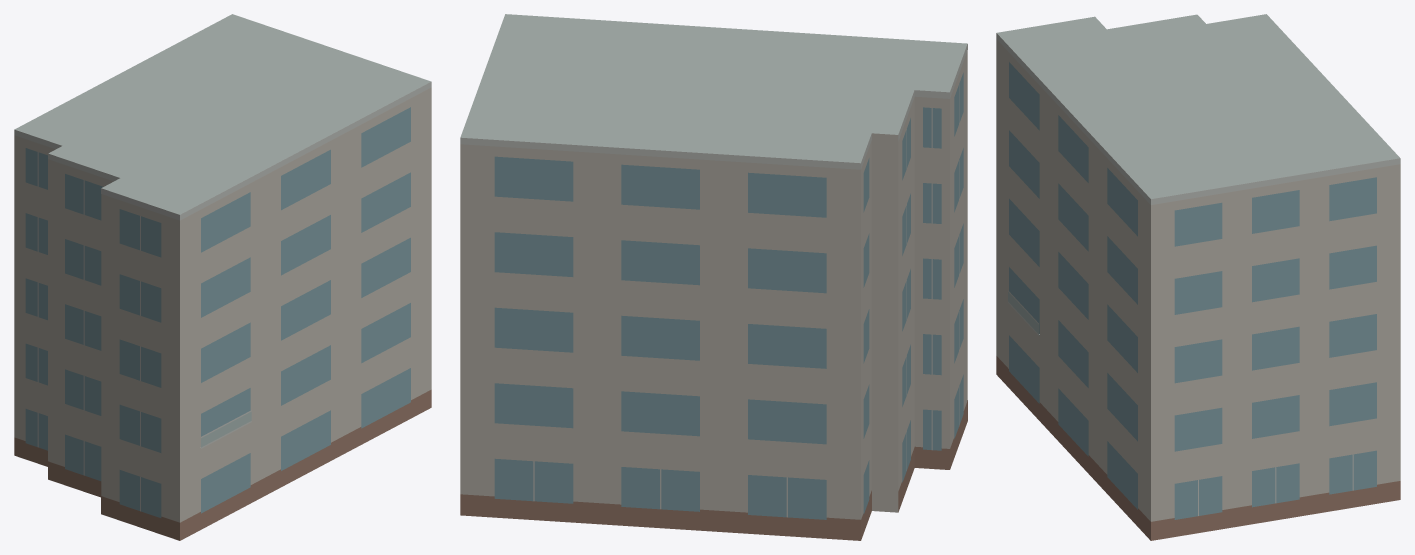
The model's file is survey-upis-32751096.glb.
3 renders of one model, left to right at view 1: azimuth 30°, elevation 25°; view 2: azimuth 150°, elevation 25°; view 3: azimuth 270°, elevation 25°, orthographic. The views are drawn at different scales.
Parts seen in each view (by area): view 1: survey-upis-32751096.tmp; view 2: survey-upis-32751096.tmp; view 3: survey-upis-32751096.tmp.
Part boxes in pixels (x1,y1,x2,y2): survey-upis-32751096.tmp: [14, 14, 431, 540]; survey-upis-32751096.tmp: [460, 14, 967, 540]; survey-upis-32751096.tmp: [996, 14, 1400, 540].
Bounding box in the file's own units: 16.29 × 14 × 15.02.
